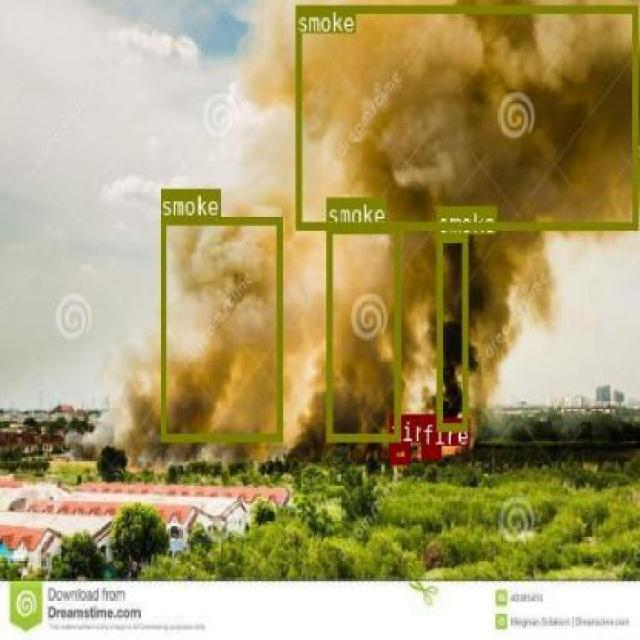Fire: (388, 442, 408, 464), (420, 445, 440, 458)
Smoke: (294, 5, 636, 228), (158, 216, 282, 439), (325, 225, 398, 440), (436, 233, 466, 430)
